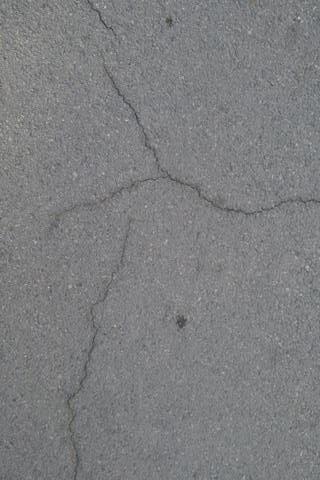A: (85, 61, 320, 219), (64, 216, 136, 480), (84, 2, 123, 42)
